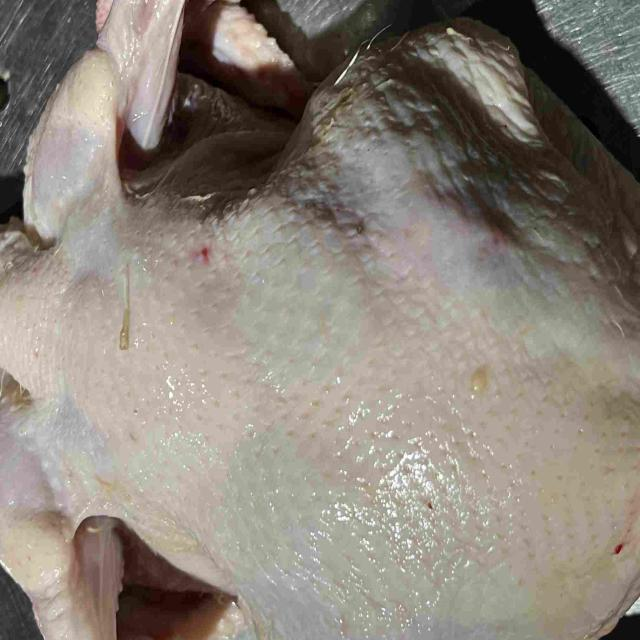back: (86, 167, 640, 590)
leg: (321, 19, 640, 258)
neck: (0, 226, 72, 400)
wing: (28, 0, 317, 213), (0, 414, 232, 640)
